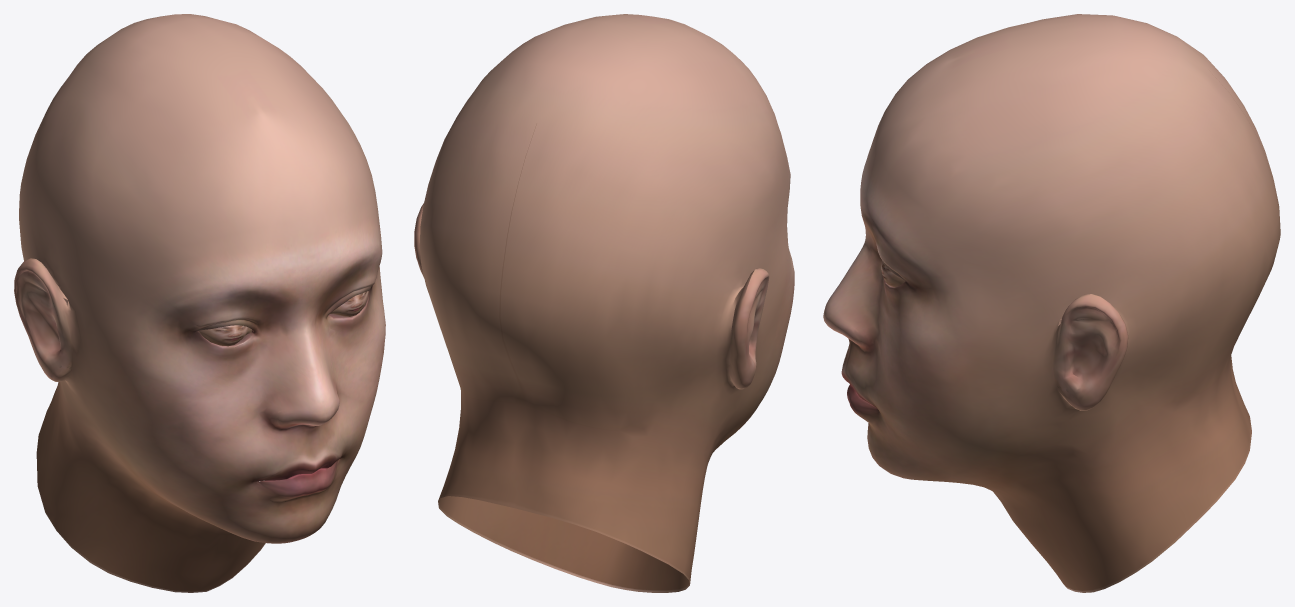
File: head_3.glb
The picture shows the model from 3 angles, left to right: view 1: azimuth 30°, elevation 25°; view 2: azimuth 150°, elevation 25°; view 3: azimuth 270°, elevation 25°; orthographic projection.
Parts seen in each view (by area): view 1: Object_2; view 2: Object_2; view 3: Object_2.
Boxes of the visible parts, x1,y1,x2,y2 form: Object_2: (14, 14, 385, 592); Object_2: (414, 14, 794, 592); Object_2: (823, 14, 1280, 592).
Bounding box in the file's own units: 0.1803 × 0.2865 × 0.2158.
Materials: 1 (1 with a texture image).
